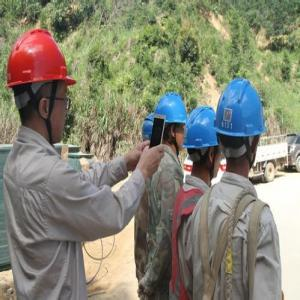blue: (213, 77, 267, 172), (183, 106, 223, 181), (154, 89, 186, 154)
red: (9, 28, 73, 152)
